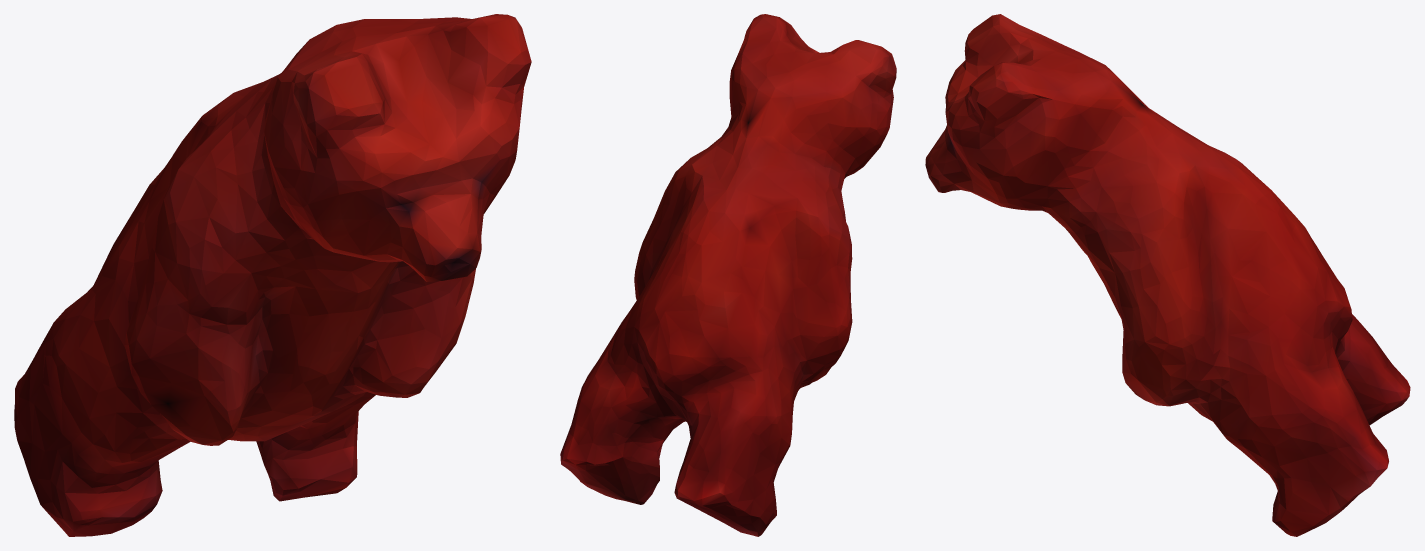
File: bear.glb
3 views of the same model, side by side, from view 1: azimuth 30°, elevation 25°; view 2: azimuth 150°, elevation 25°; view 3: azimuth 270°, elevation 25° (orthographic). The views are drawn at different scales.
Visible parts, largest first — view 1: Mesh; view 2: Mesh; view 3: Mesh.
Boxes of the visible parts, bbox=[...] form: Mesh: bbox=[14, 14, 531, 536]; Mesh: bbox=[560, 14, 896, 536]; Mesh: bbox=[925, 14, 1410, 536].
Size of the model in its own units: 47.66 by 86.46 by 84.03.
